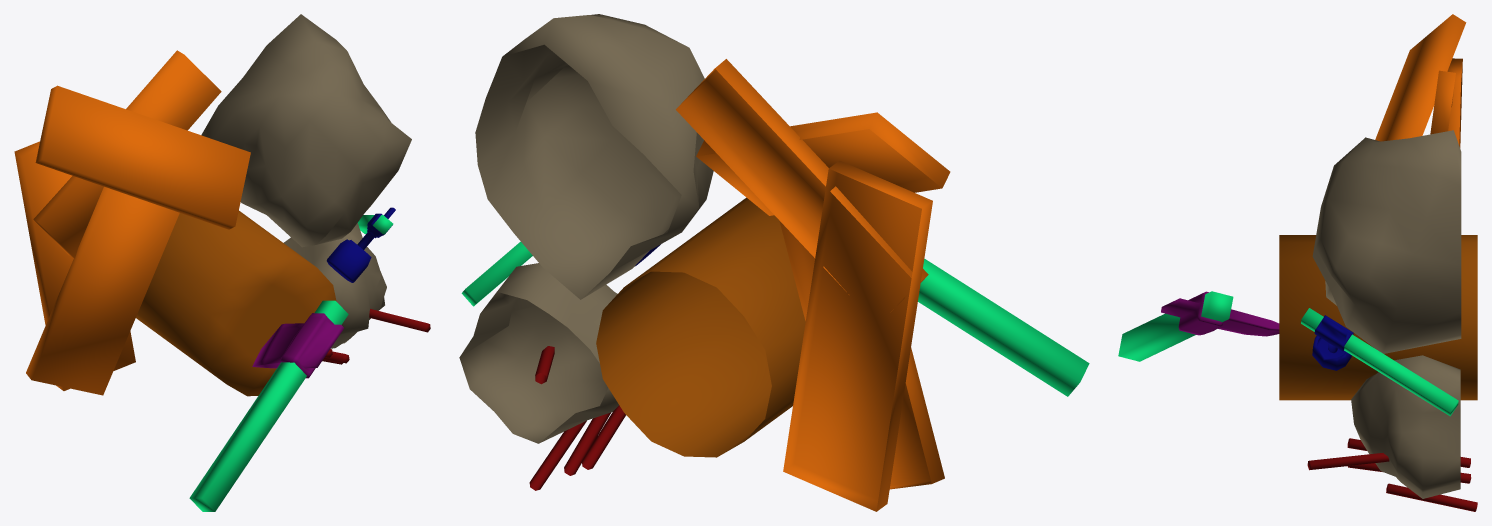
The model's file is ChoppingBlock.gltf.
The picture shows the model from 3 angles, left to right: view 1: azimuth 30°, elevation 25°; view 2: azimuth 150°, elevation 25°; view 3: azimuth 270°, elevation 25°; orthographic projection. The views are drawn at different scales.
Parts seen in each view (by area): view 1: ChoppingBlock; view 2: ChoppingBlock; view 3: ChoppingBlock.
Part boxes in pixels (bbox=[...]): ChoppingBlock: bbox=[14, 14, 430, 511]; ChoppingBlock: bbox=[459, 14, 1089, 511]; ChoppingBlock: bbox=[1118, 14, 1477, 511].
Bounding box in the file's own units: 0.8251 × 0.7817 × 0.6706.
